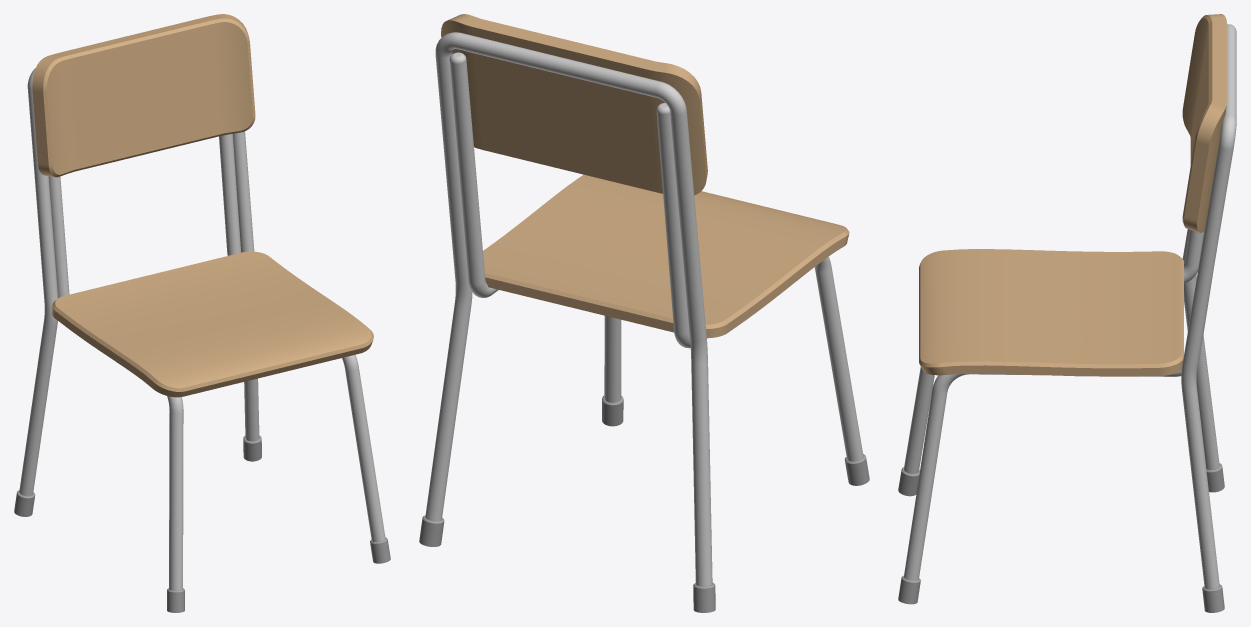
File: 712_school_chair_L.glb
3 views of the same model, side by side, from view 1: azimuth 30°, elevation 25°; view 2: azimuth 150°, elevation 25°; view 3: azimuth 270°, elevation 25° (orthographic). The views are drawn at different scales.
Visible parts, largest first — view 1: Body1; view 2: Body1; view 3: Body1.
Part boxes in pixels (bbox=[...]): Body1: bbox=[14, 14, 390, 612]; Body1: bbox=[419, 14, 869, 612]; Body1: bbox=[898, 14, 1236, 612].
Size of the model in its own units: 0.5041 by 0.8801 by 0.5525.
